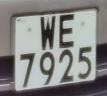2: (55, 46, 78, 85)
5: (75, 44, 94, 82)
7: (19, 49, 38, 89)
9: (36, 49, 57, 89)
E: (57, 10, 77, 53)
W: (38, 12, 58, 54)
